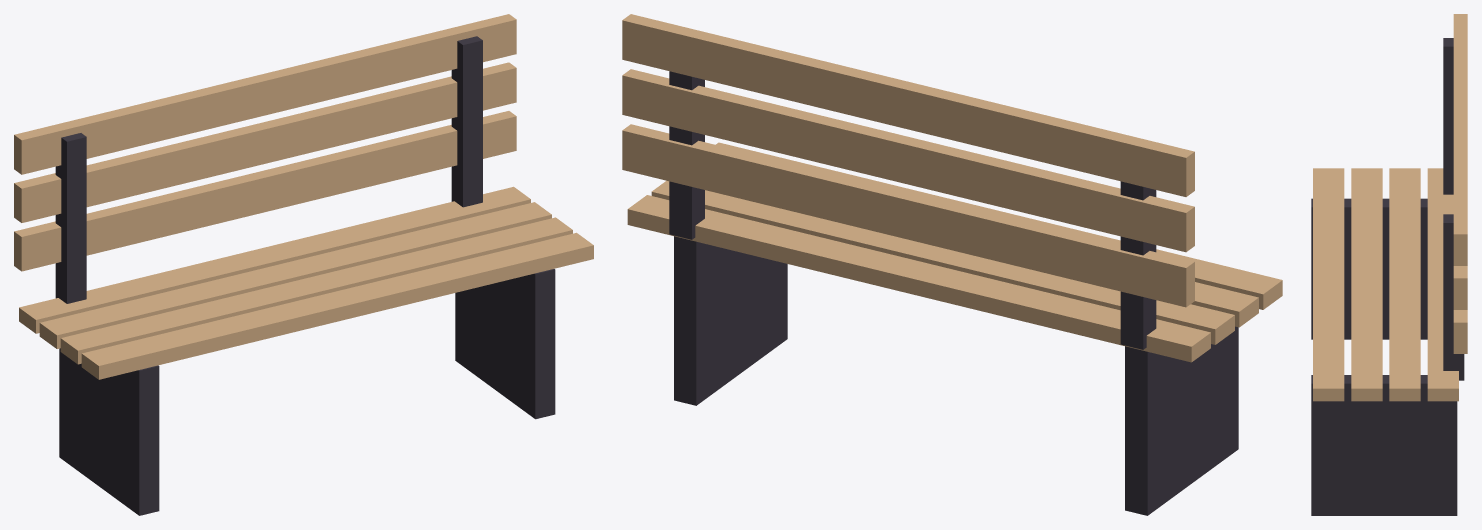
The model's file is park_bench.glb.
The picture shows the model from 3 angles, left to right: view 1: azimuth 30°, elevation 25°; view 2: azimuth 150°, elevation 25°; view 3: azimuth 270°, elevation 25°; orthographic projection. The views are drawn at different scales.
Visible parts, largest first — view 1: park_bench; view 2: park_bench; view 3: park_bench.
Boxes of the visible parts, box(x1,y1,x2,y2) form: park_bench: box(14, 14, 593, 515); park_bench: box(622, 14, 1282, 515); park_bench: box(1311, 14, 1467, 515).
Size of the model in its own units: 1.5 by 0.95 by 0.45.
